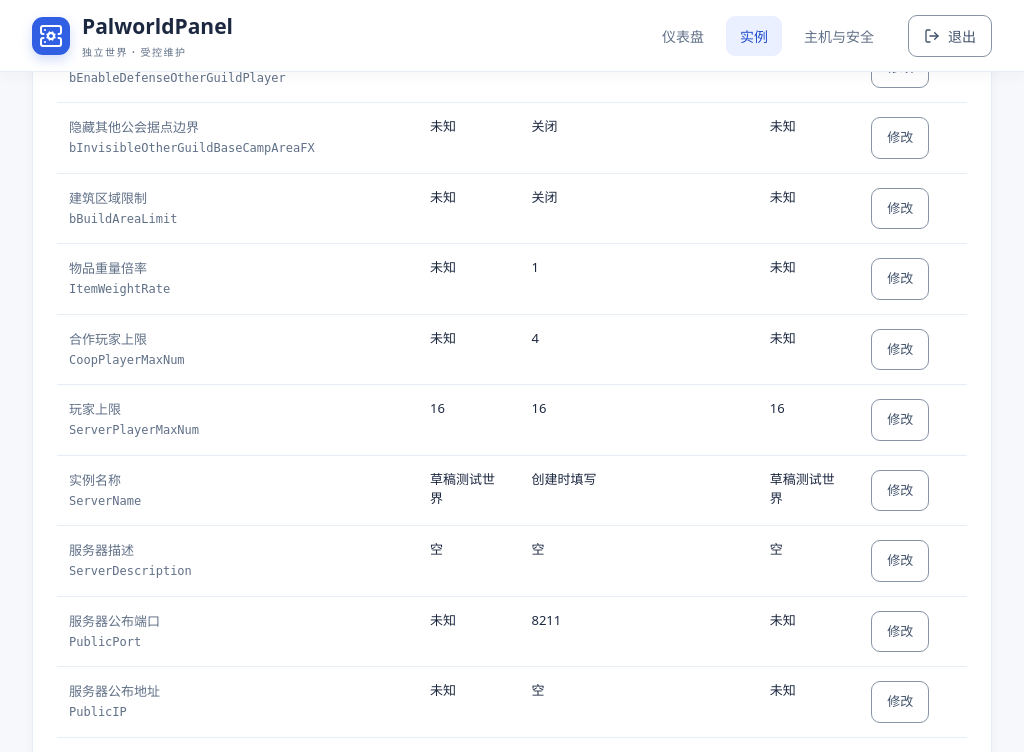
接口拒绝时保留弹窗输入，不将未保存值显示为已保存草稿
(page scrolled)
Click the button "修改" in the row of "ServerPlayerMaxNum" at (900, 420), box top-left (871, 399), bottom-right (929, 441)
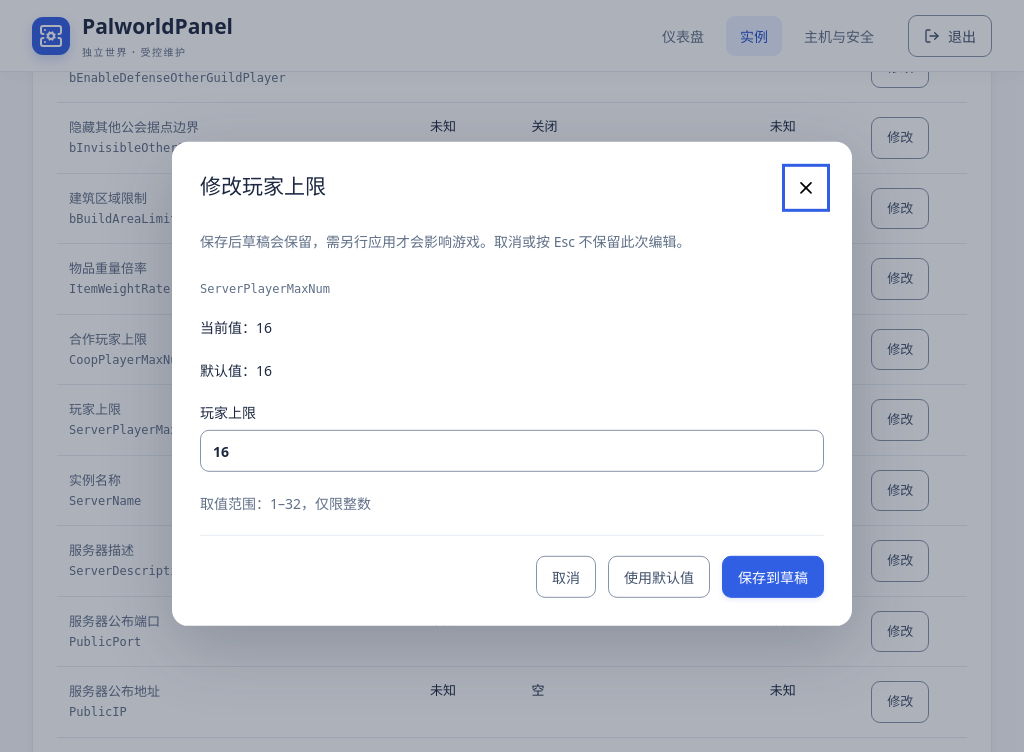
Clear the number field labelled "玩家上限" at (512, 451), box top-left (200, 430), bottom-right (824, 472)
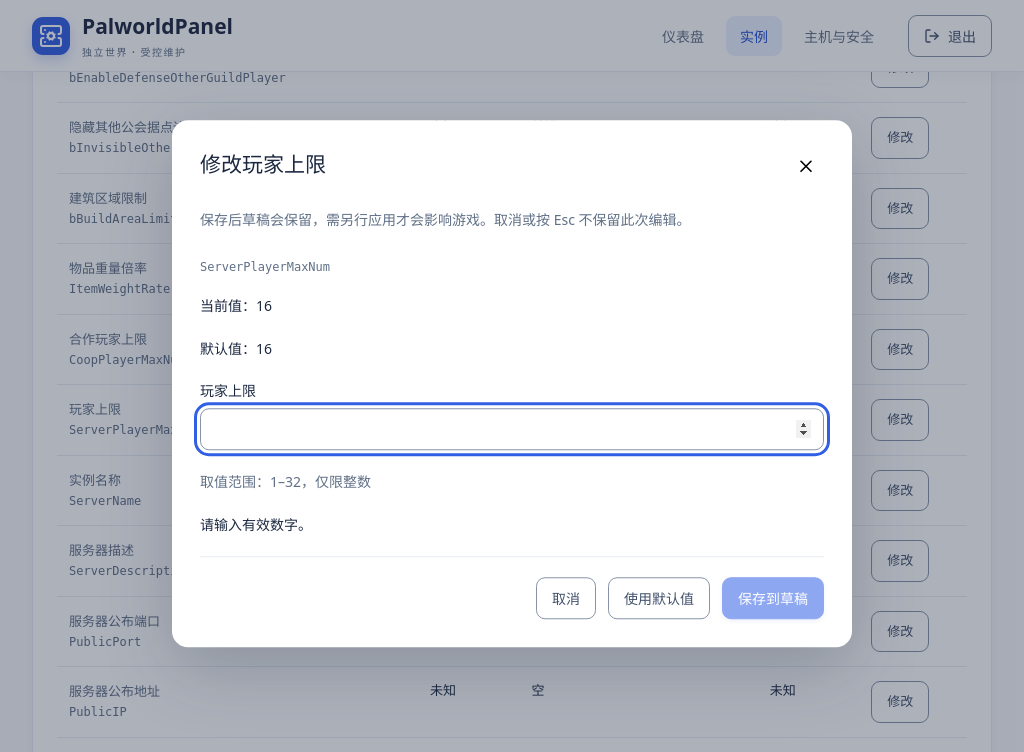
Type "20" into the number field labelled "玩家上限" at (512, 430), box top-left (200, 408), bottom-right (824, 450)
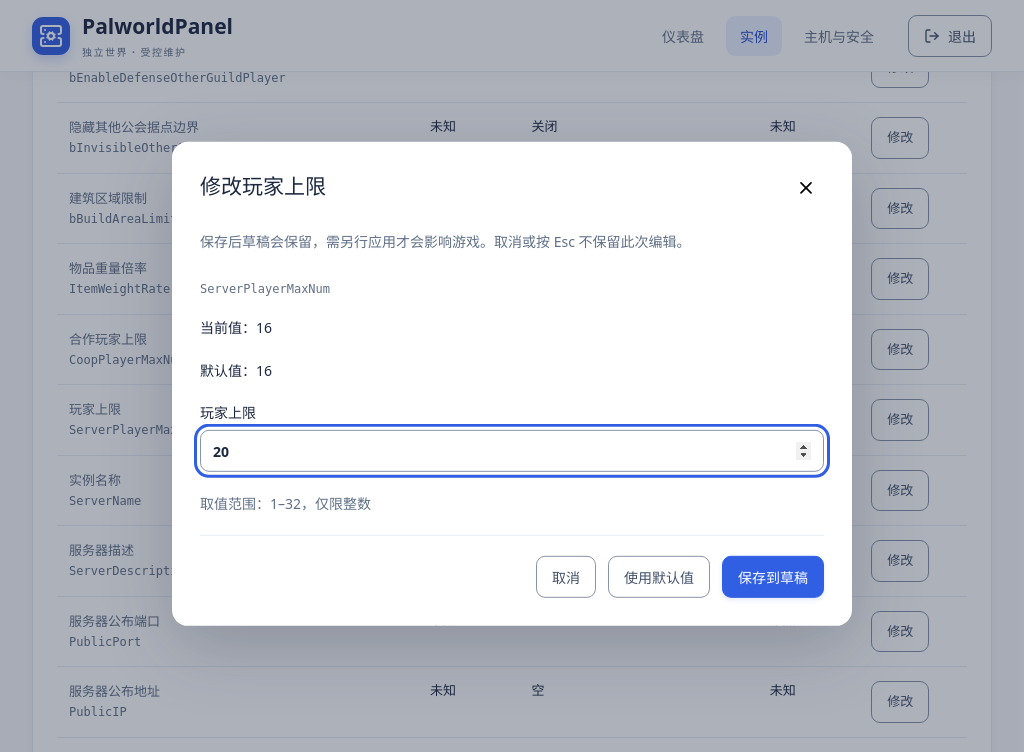
Click the button "保存到草稿" at (773, 577), box top-left (722, 556), bottom-right (824, 598)
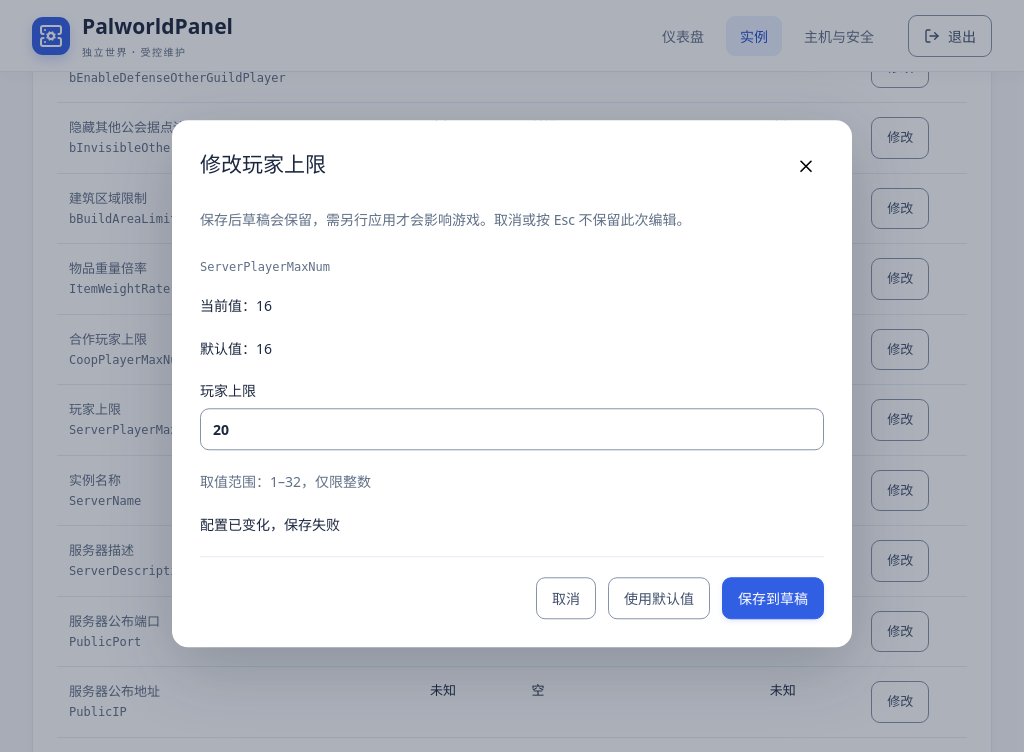
Result: the message shows "保存失败" at top-left (200, 516), bottom-right (340, 535)
